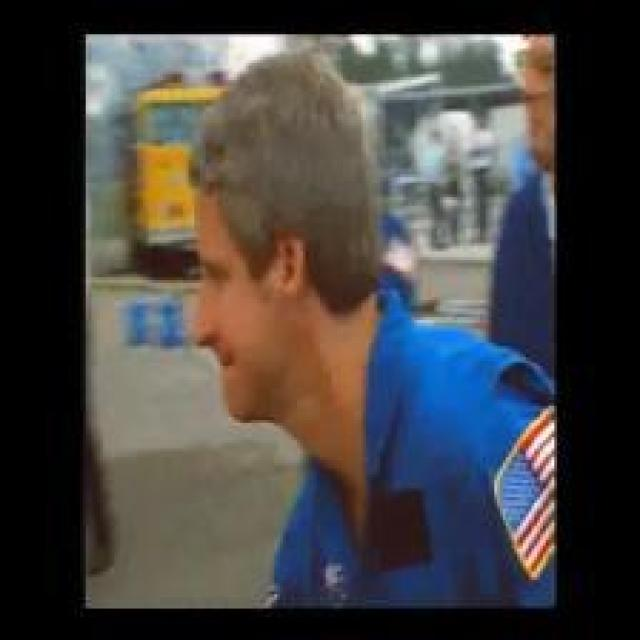other: (119, 64, 253, 248)
